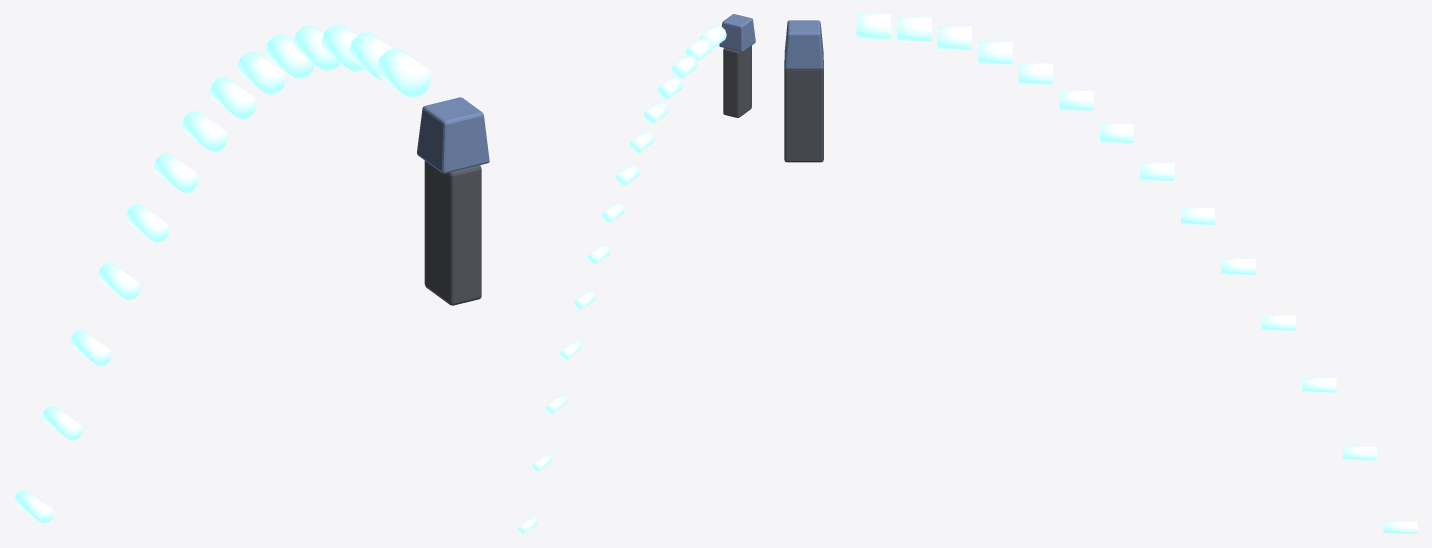
The model's file is weapon_whip_beam.glb.
The picture shows the model from 3 angles, left to right: view 1: azimuth 30°, elevation 25°; view 2: azimuth 150°, elevation 25°; view 3: azimuth 270°, elevation 25°; orthographic projection. The views are drawn at different scales.
Parts seen in each view (by area): view 1: grip, emitter, whip_seg, whip_seg.005, whip_seg.004, whip_seg.006, whip_seg.007, whip_seg.003, whip_seg.001, whip_seg.002, whip_seg.008, whip_seg.009 (+4 smaller); view 2: grip, emitter, whip_seg.002, whip_seg.001, whip_seg.003, whip_seg.004, whip_seg, whip_seg.005, whip_seg.006, whip_seg.007; view 3: grip, emitter, whip_seg, whip_seg.001, whip_seg.002, whip_seg.003, whip_seg.004, whip_seg.005.
Part boxes in pixels (x1,y1,x2,y2): grip: (424,161,481,305); emitter: (417,97,489,173); whip_seg: (377,48,431,98); whip_seg.005: (237,51,285,95); whip_seg.004: (265,34,314,79); whip_seg.006: (209,77,256,119); whip_seg.007: (181,110,227,152); whip_seg.003: (293,25,340,71); whip_seg.001: (349,32,392,80); whip_seg.002: (321,24,364,71); whip_seg.008: (154,153,198,193); whip_seg.009: (126,204,169,242); grip: (723,45,751,117); emitter: (719,14,755,51); whip_seg.002: (671,55,697,78); whip_seg.001: (685,38,712,61); whip_seg.003: (657,76,682,99); whip_seg.004: (643,101,668,123); whip_seg: (700,25,726,48); whip_seg.005: (629,131,653,152); whip_seg.006: (615,164,639,185); whip_seg.007: (602,202,624,222); grip: (784,60,823,162); emitter: (784,20,823,69); whip_seg: (856,14,890,38); whip_seg.001: (897,17,931,41); whip_seg.002: (937,26,971,49); whip_seg.003: (978,42,1012,64); whip_seg.004: (1018,63,1052,84); whip_seg.005: (1059,90,1093,110).
Bounding box in the file's own units: 0.5055 × 7.37 × 8.18.
